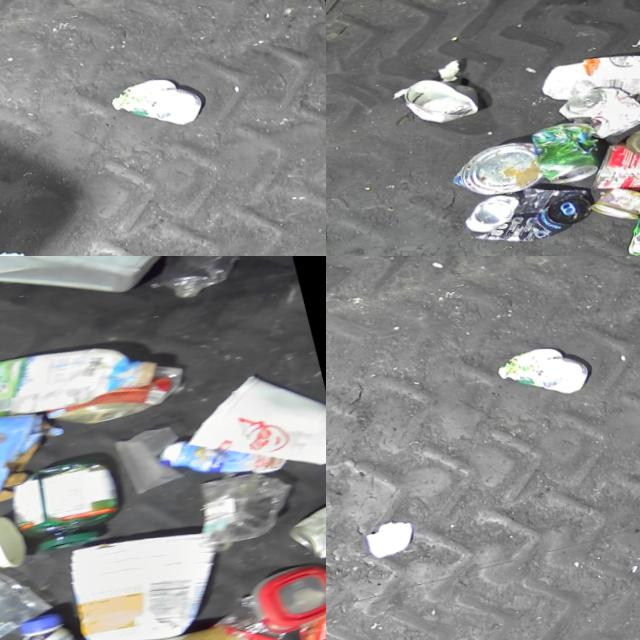can: (457, 173, 593, 256), (445, 137, 542, 208), (553, 78, 640, 150), (527, 119, 605, 193), (394, 68, 480, 134), (581, 120, 640, 216), (586, 180, 640, 232), (614, 192, 640, 256)
non_white_jug: (0, 256, 290, 330)
